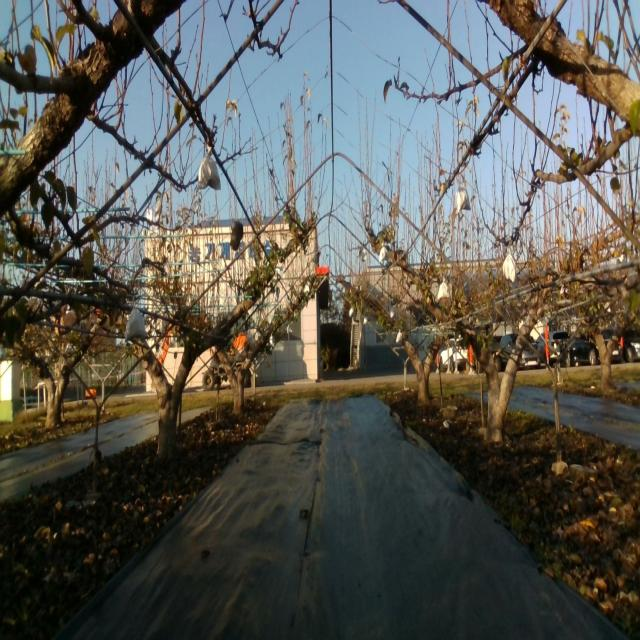pearbags: (197, 144, 221, 189), (124, 305, 146, 342), (456, 183, 471, 213), (502, 254, 515, 281), (437, 280, 451, 301)
